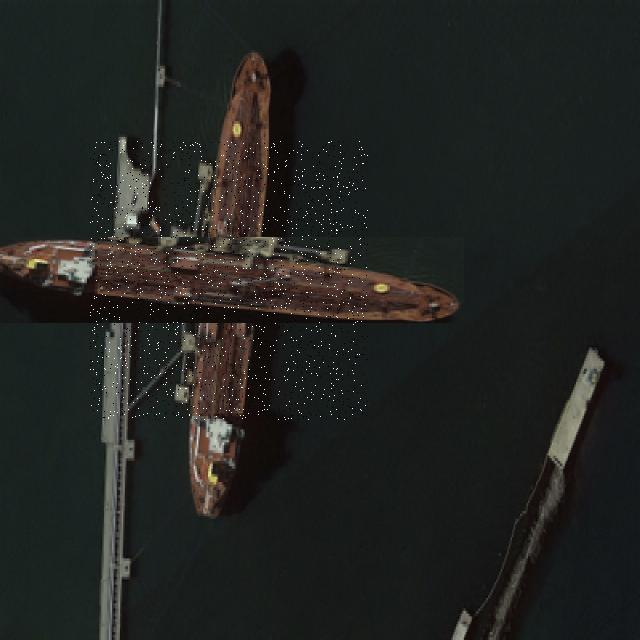boat: (90, 141, 368, 420)
